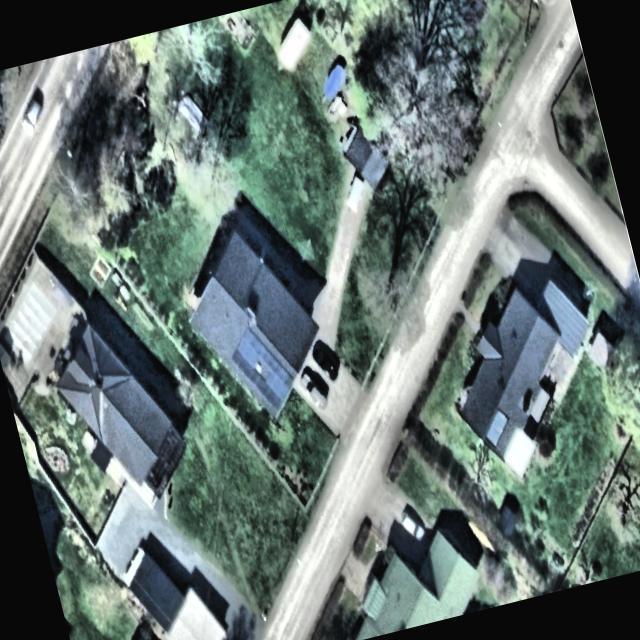roof_pv: (224, 318, 302, 418)
